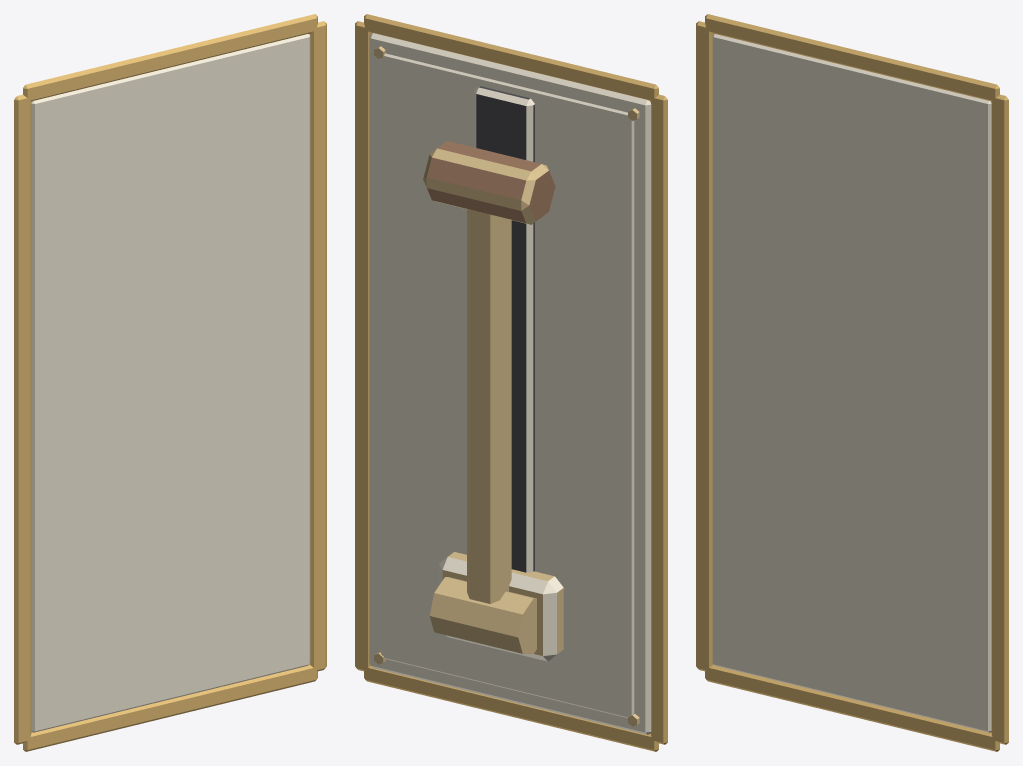
Rendered from Ctl_Lever_1x2.fbx.
3 renders of one model, left to right at view 1: azimuth 30°, elevation 25°; view 2: azimuth 150°, elevation 25°; view 3: azimuth 330°, elevation 25°, orthographic.
Parts seen in each view (by area): view 1: Ctl_Lever_1x2, Ctl_Lever_1x2_Frame; view 2: Ctl_Lever_1x2, Ctl_Lever_1x2_Frame, Moving.004; view 3: Ctl_Lever_1x2, Ctl_Lever_1x2_Frame.
Part boxes in pixels (box(x1,y1,x2,y2)): Ctl_Lever_1x2: box(31, 34, 310, 732); Ctl_Lever_1x2_Frame: box(14, 14, 326, 751); Ctl_Lever_1x2: box(369, 33, 651, 734); Ctl_Lever_1x2_Frame: box(355, 14, 667, 751); Moving.004: box(423, 141, 555, 653); Ctl_Lever_1x2: box(712, 34, 991, 732); Ctl_Lever_1x2_Frame: box(696, 14, 1008, 751).
Bounding box in the file's own units: 1.06 × 2.16 × 0.23.
